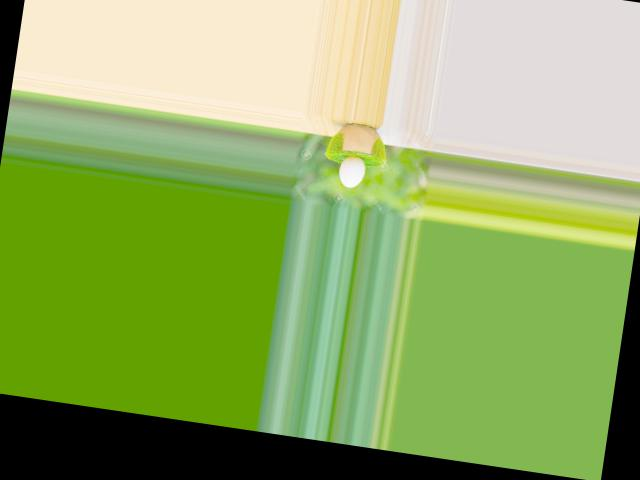egg: (338, 153, 368, 188)
